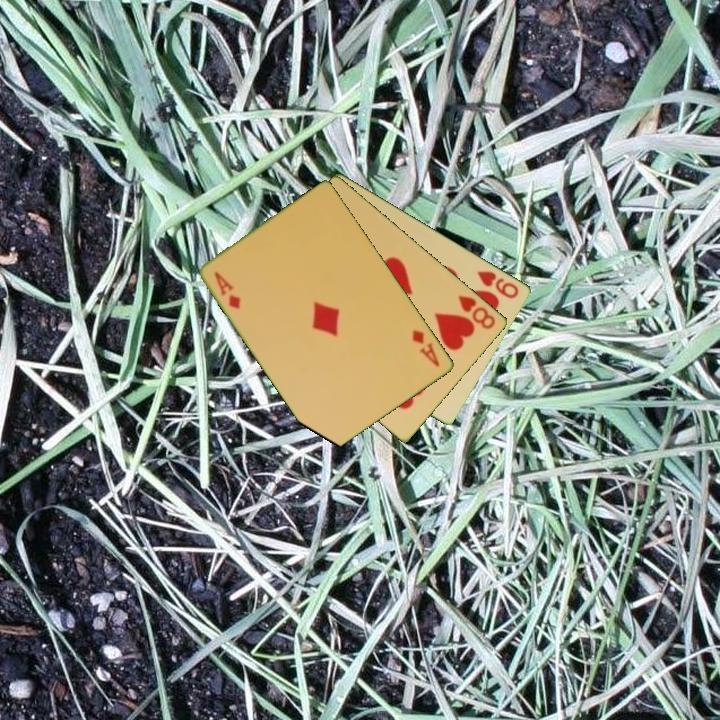8h: (455, 291, 499, 332)
9h: (474, 267, 522, 301)
Ad: (409, 326, 443, 370), (211, 268, 244, 312)
